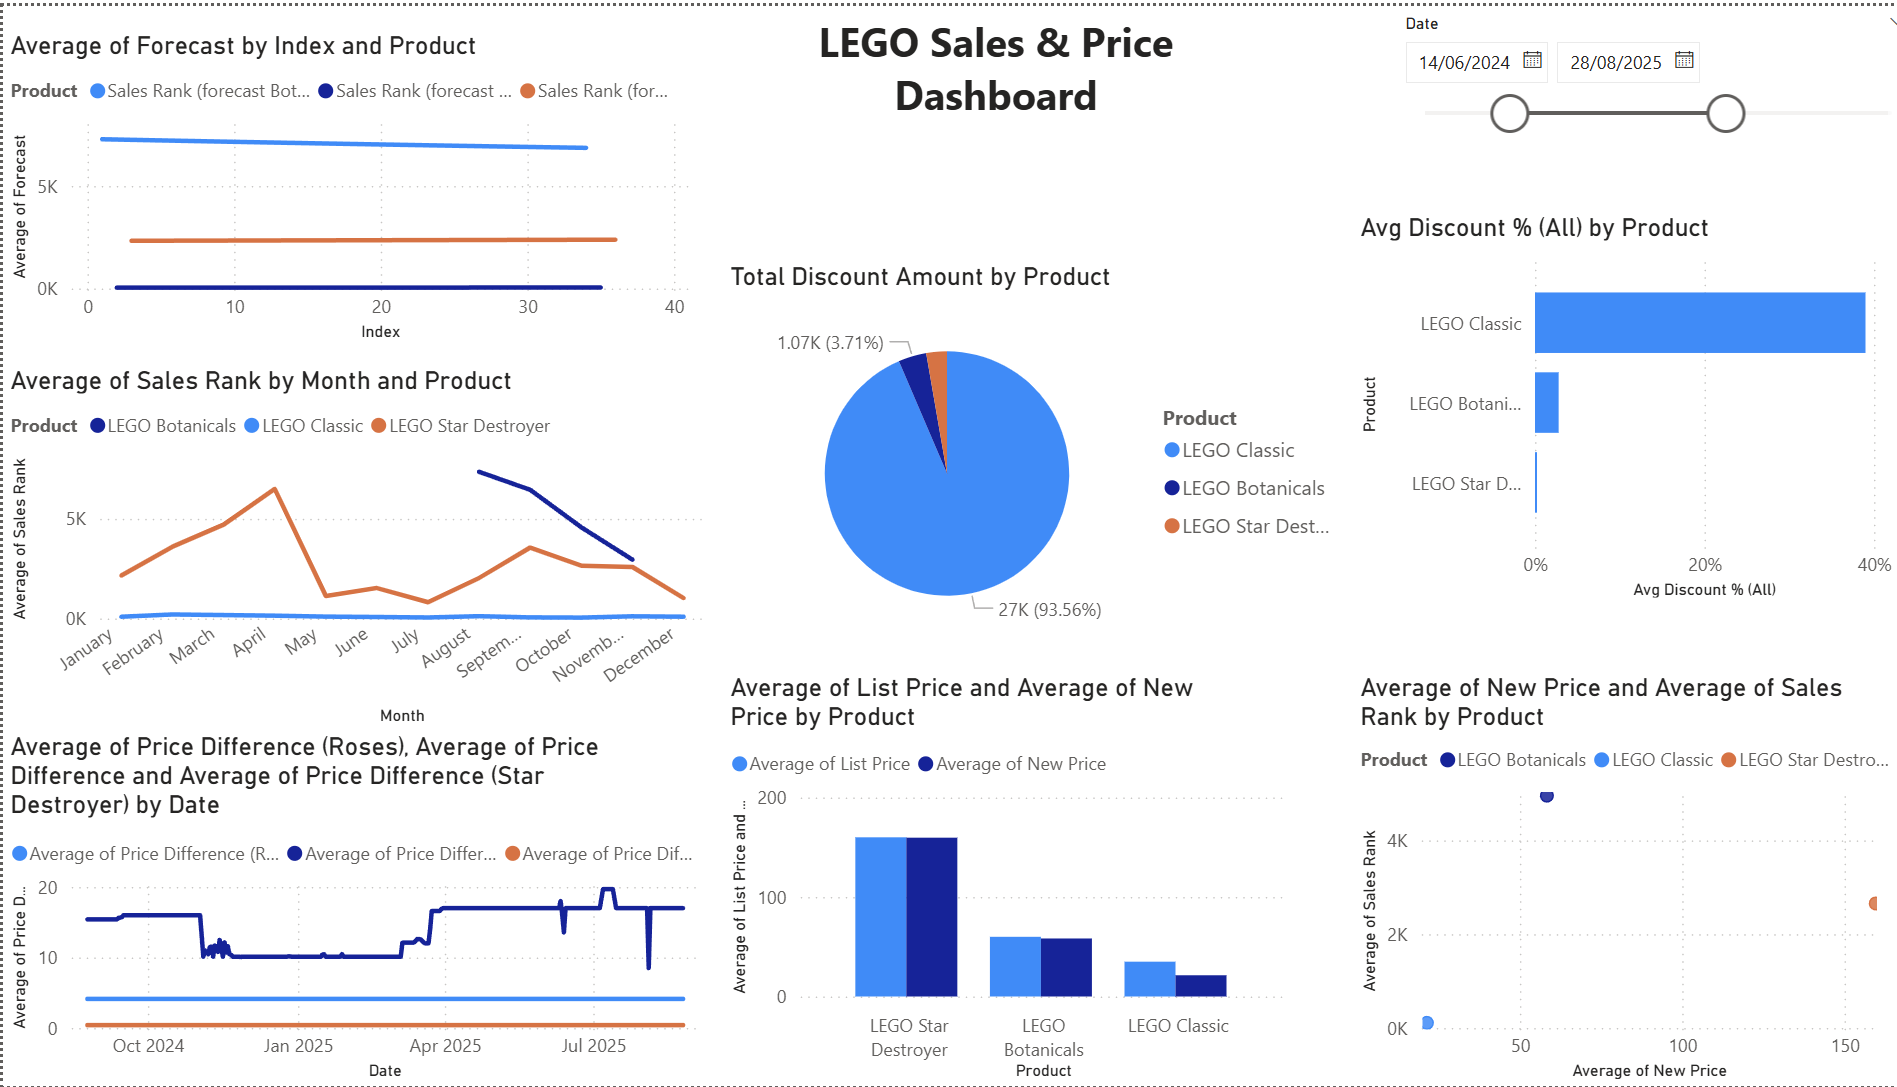

What the dashboard file says about the page in this screenshot:
{"tool":"powerbi","page":{"name":"Page 1","canvas":[1280,720],"ordinal":0},"visuals":[{"type":"lineChart","fields":{"Y":["Avg(Roses Summary.Price Difference (Roses))","Avg(Classic Summary.Price Difference)","Avg(StarDestroyer Summary.Price Difference (Star Destroyer))"],"Category":["Classic Summary.Date"]},"box":[0,483.3,480,236.7],"z":0},{"type":"lineChart","fields":{"Y":["Avg(Appended Table.Sales Rank)"],"Series":["Appended Table.Product"],"Category":["Appended Table.Time.Variation.Date Hierarchy.Month"]},"box":[0,238.9,472.2,244.4],"z":1000},{"type":"textbox","box":[472.2,0,380,127.8],"z":2000},{"type":"slicer","fields":{"Values":["Calendar.Date"]},"box":[922.2,0,357.8,95.6],"z":9000},{"type":"barChart","fields":{"Category":["Appended Table.Product"],"Y":["Appended Table.Avg Discount % (All)"]},"box":[900,136.7,364.4,262.2],"z":10000},{"type":"clusteredColumnChart","fields":{"Category":["Appended Table.Product"],"Y":["Avg(Appended Table.List Price)","Avg(Appended Table.New Price)"]},"box":[480,444.4,380,275.6],"z":11000},{"type":"scatterChart","fields":{"X":["Avg(Appended Table.New Price)"],"Y":["Avg(Appended Table.Sales Rank)"],"Series":["Appended Table.Product"]},"box":[900,444.4,364.4,275.6],"z":12000},{"type":"pieChart","fields":{"Category":["Appended Table.Product"],"Y":["Appended Table.Total Discount Amount"]},"box":[480,170,422.2,262.2],"z":14000},{"type":"lineChart","fields":{"Category":["forecasted values.Index"],"Series":["forecasted values.Product"],"Y":["Avg(forecasted values.Forecast)"]},"box":[0,15.6,462.2,211.1],"z":16000}]}

Visuals, with their boxes in screenshot pixels (x1, y1, x2, y2), scaled from the page's 1280x720 canvas onto the 1897x1087 screenshot:
lineChart - Avg(Roses Summary.Price Difference (Roses)) x Avg(Classic Summary.Price Difference): bbox=[0, 730, 711, 1086]
lineChart - Avg(Appended Table.Sales Rank) x Appended Table.Product: bbox=[0, 361, 700, 730]
textbox: bbox=[700, 0, 1263, 193]
slicer - Calendar.Date: bbox=[1367, 0, 1896, 144]
barChart - Appended Table.Product x Appended Table.Avg Discount % (All): bbox=[1334, 206, 1874, 602]
clusteredColumnChart - Appended Table.Product x Avg(Appended Table.List Price): bbox=[711, 671, 1275, 1086]
scatterChart - Avg(Appended Table.New Price) x Avg(Appended Table.Sales Rank): bbox=[1334, 671, 1874, 1086]
pieChart - Appended Table.Product x Appended Table.Total Discount Amount: bbox=[711, 257, 1337, 653]
lineChart - forecasted values.Index x forecasted values.Product: bbox=[0, 24, 685, 342]
